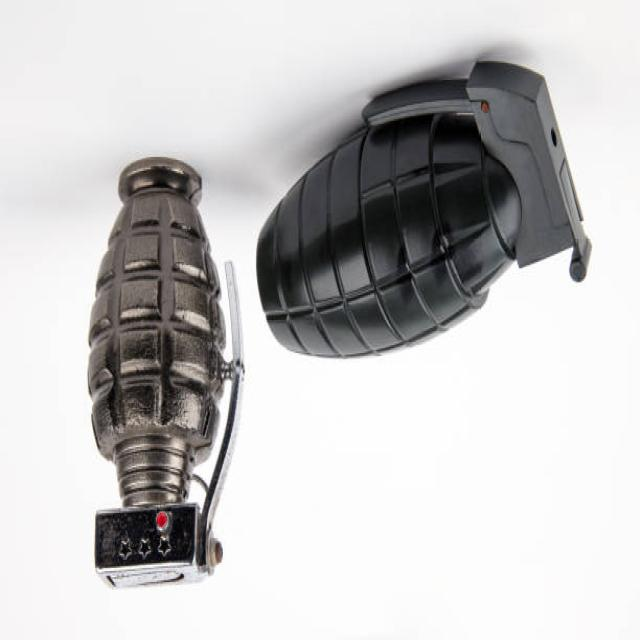grenade: (255, 57, 596, 371), (80, 148, 245, 596)
